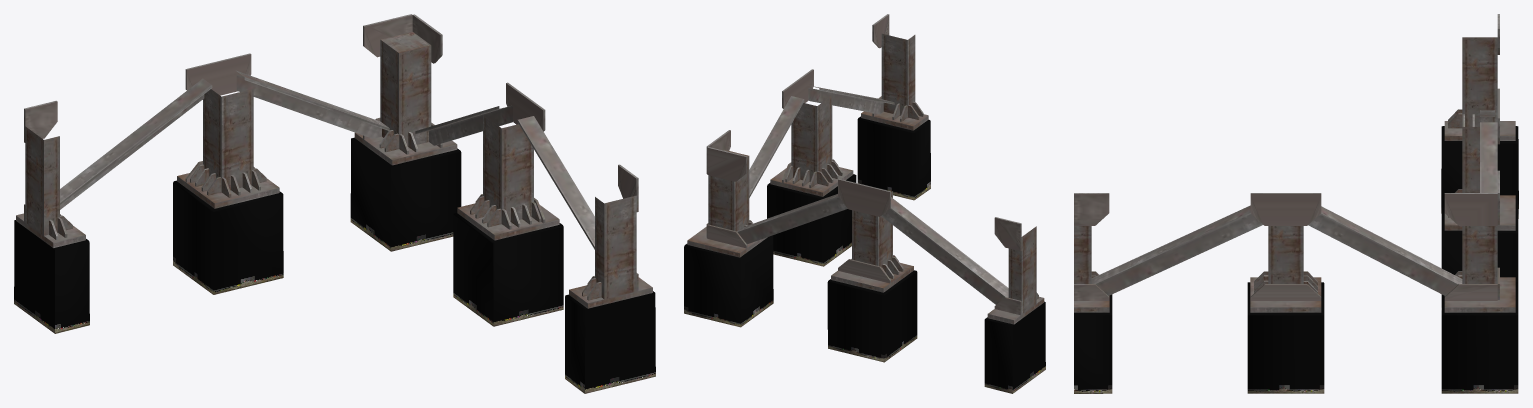
Rendered from walkway_b_support_300x300x150_corner.glb.
The picture shows the model from 3 angles, left to right: view 1: azimuth 30°, elevation 25°; view 2: azimuth 150°, elevation 25°; view 3: azimuth 270°, elevation 25°; orthographic projection. The views are drawn at different scales.
Visible parts, largest first — view 1: walkway_b_support_300x300x150_corner; view 2: walkway_b_support_300x300x150_corner; view 3: walkway_b_support_300x300x150_corner.
Boxes of the visible parts, x1,y1,x2,y2 form: walkway_b_support_300x300x150_corner: (14, 14, 655, 393); walkway_b_support_300x300x150_corner: (684, 14, 1045, 393); walkway_b_support_300x300x150_corner: (1074, 14, 1518, 393).
Bounding box in the file's own units: 3.15 × 1.5 × 3.15.
2 materials, 2 textured.
